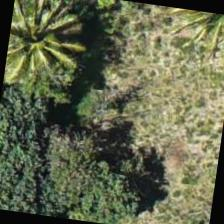Kelapa_Sawit: (4, 0, 78, 84)
